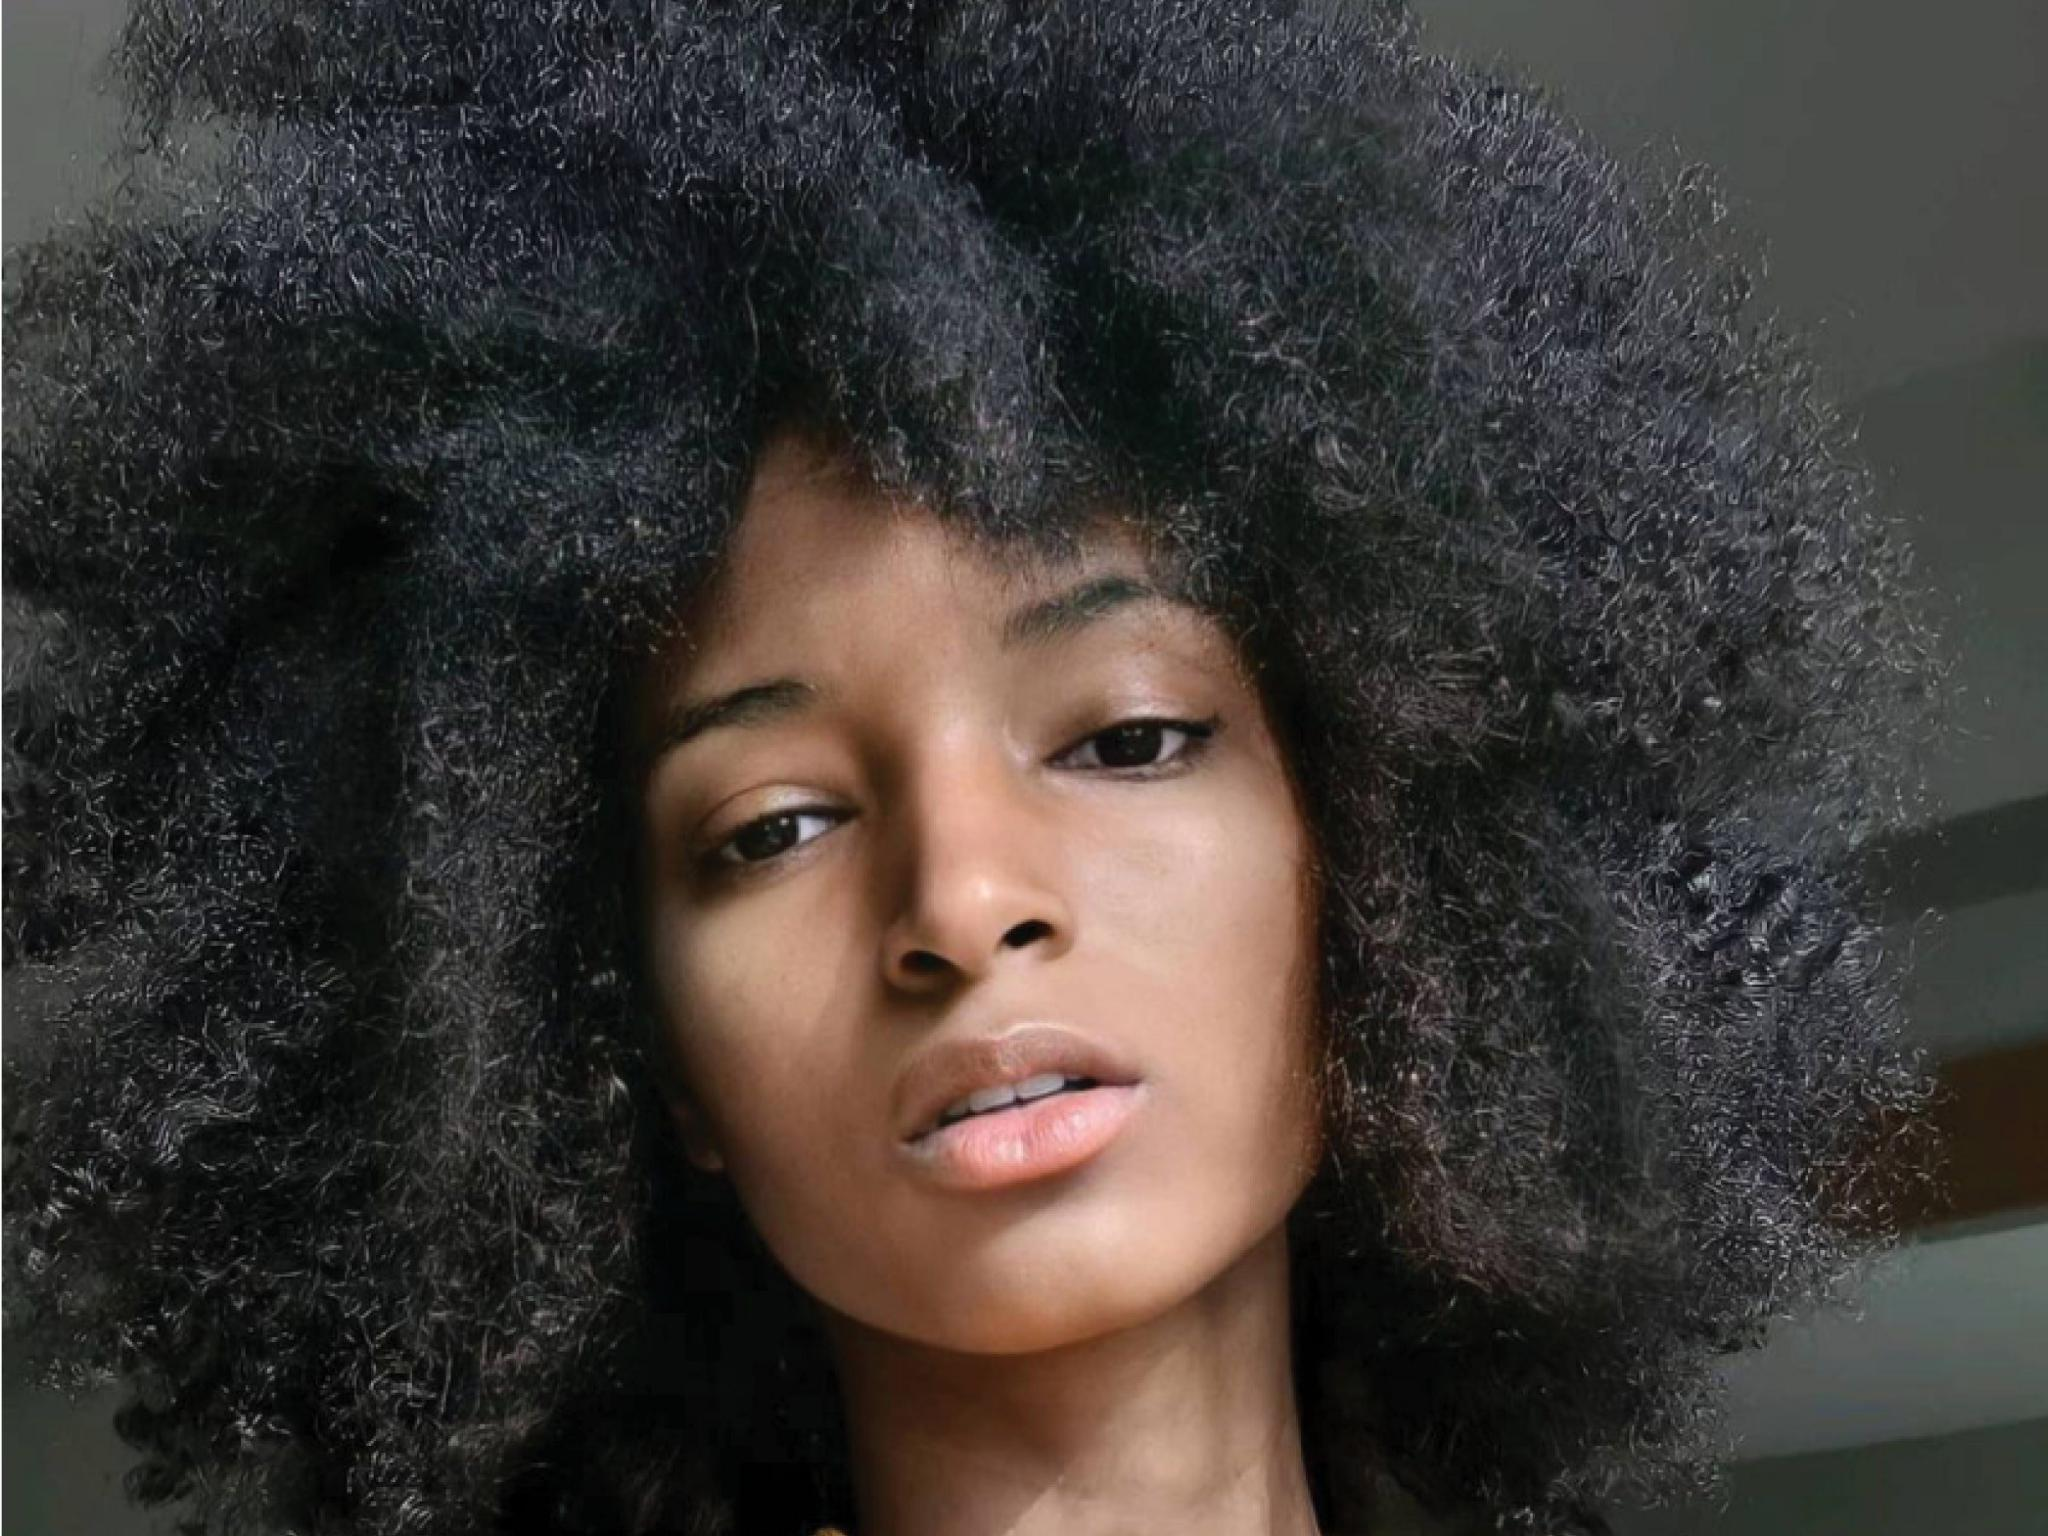Sober: (640, 516, 1306, 1273)
